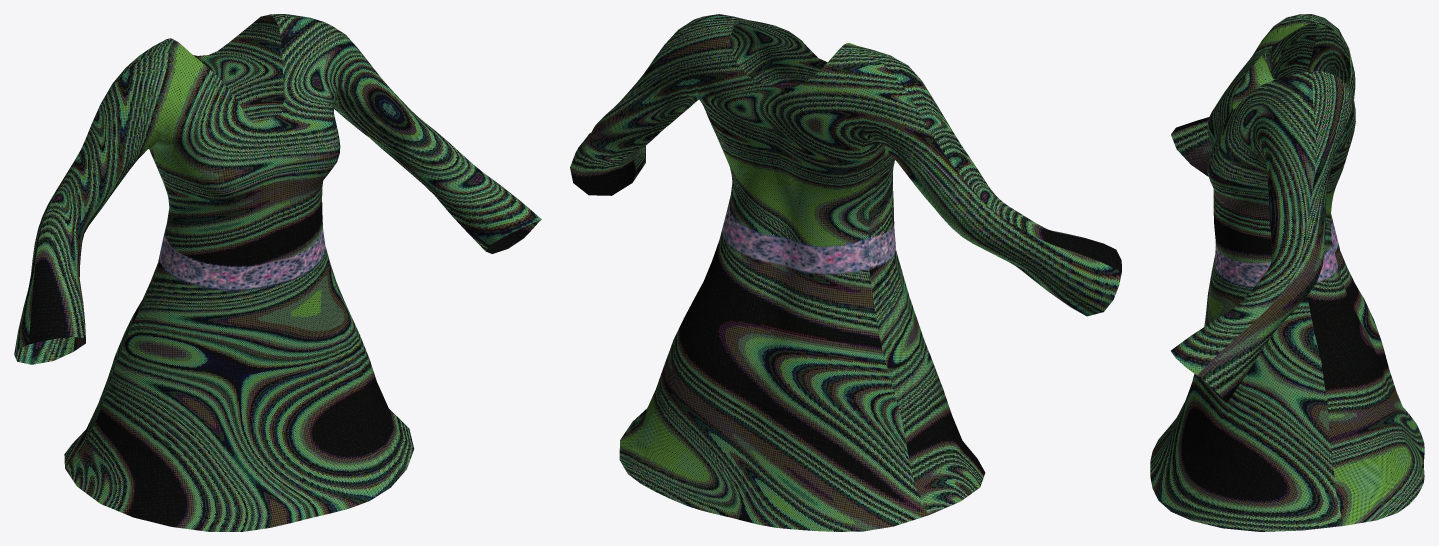
The model's file is elvs-simple-60s-dress.glb.
3 renders of one model, left to right at view 1: azimuth 30°, elevation 25°; view 2: azimuth 150°, elevation 25°; view 3: azimuth 270°, elevation 25°, orthographic. The views are drawn at different scales.
Visible parts, largest first — view 1: simple 60s dress; view 2: simple 60s dress; view 3: simple 60s dress.
Part boxes in pixels (x1,y1,x2,y2): simple 60s dress: (14,14,541,531); simple 60s dress: (570,14,1121,531); simple 60s dress: (1150,14,1424,531).
Bounding box in the file's own units: 93.47 × 73.83 × 43.47.
Materials: 1 (1 with a texture image).
